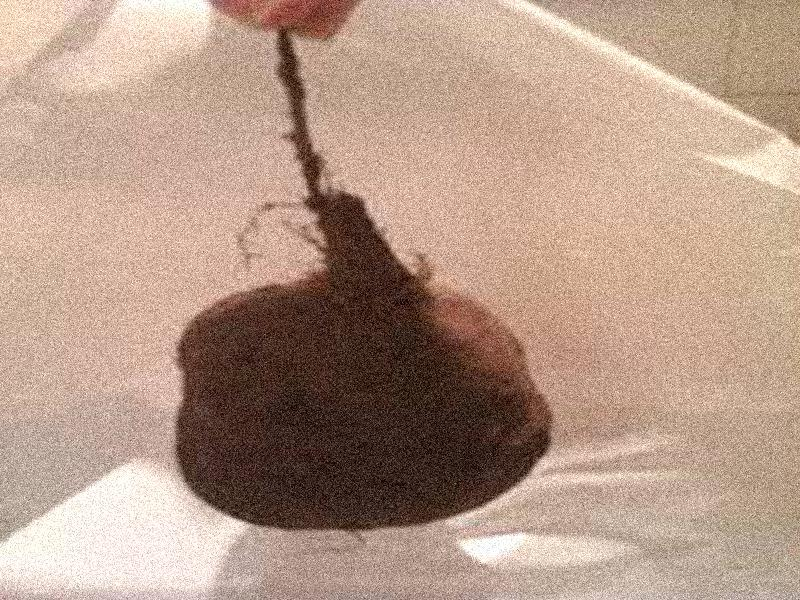Beet: (176, 23, 554, 531)
